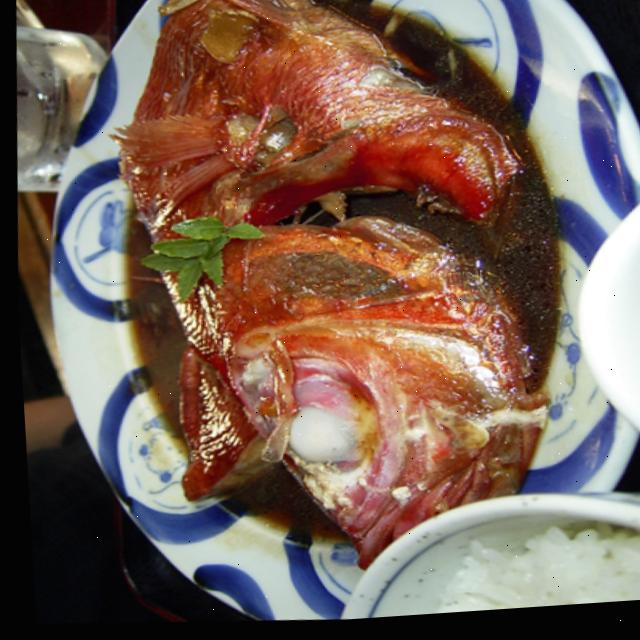熟制海鲜: (13, 0, 640, 614)
